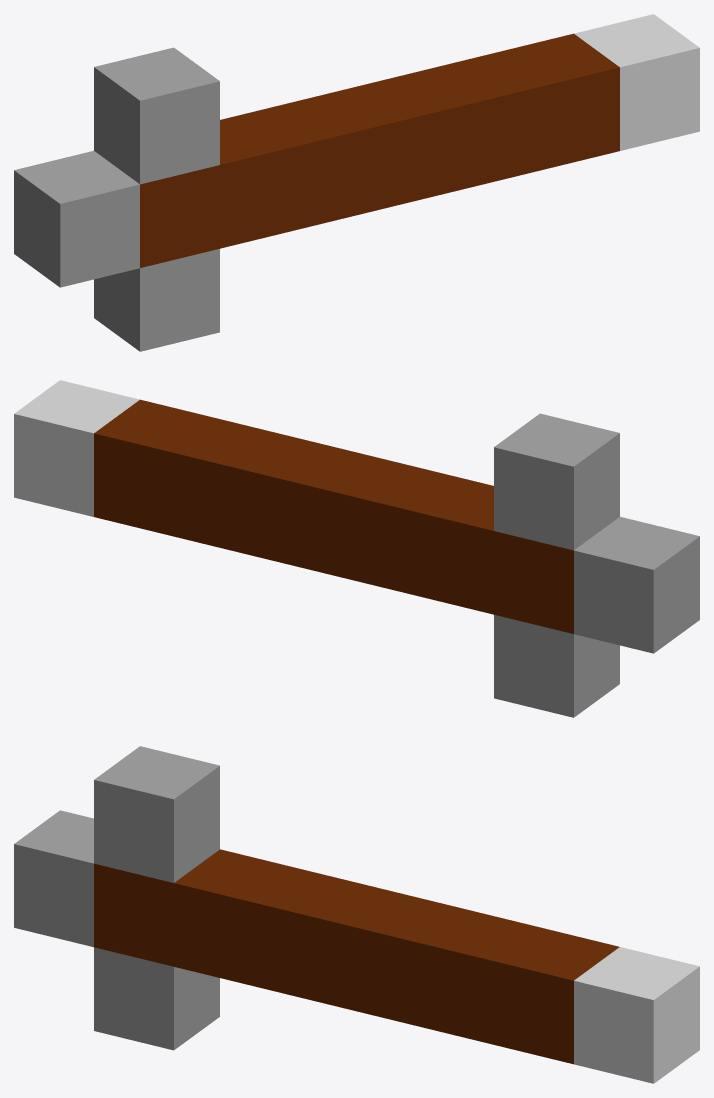
Rendered from bow_arrow.obj.
3 views of the same model, one above another, from view 1: azimuth 30°, elevation 25°; view 2: azimuth 150°, elevation 25°; view 3: azimuth 330°, elevation 25° (orthographic).
Visible parts, largest first — view 1: hand; view 2: hand; view 3: hand.
Part boxes in pixels (left/top/right/bottom): hand: left=14, top=14, right=699, bottom=351; hand: left=14, top=380, right=699, bottom=717; hand: left=14, top=746, right=699, bottom=1083.
Bounding box in the file's own units: 0.8 × 0.3 × 0.1.
Materials: 1 (1 with a texture image).
